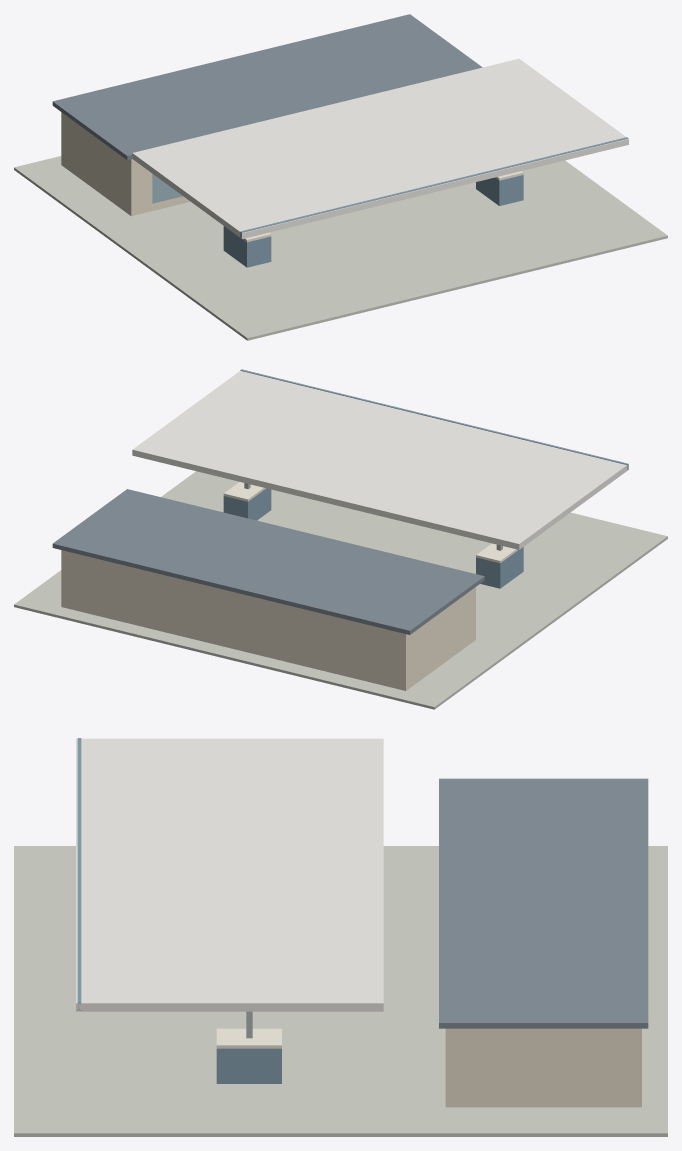
Rendered from shop-fuel-canopy.glb.
The picture shows the model from 3 angles, top to bottom: view 1: azimuth 30°, elevation 25°; view 2: azimuth 150°, elevation 25°; view 3: azimuth 270°, elevation 25°; orthographic projection. The views are drawn at different scales.
Visible parts, largest first — view 1: shop-fuel-canopy; view 2: shop-fuel-canopy; view 3: shop-fuel-canopy.
Boxes of the visible parts, x1,y1,x2,y2 form: shop-fuel-canopy: [14, 14, 667, 340]; shop-fuel-canopy: [14, 369, 667, 709]; shop-fuel-canopy: [14, 738, 667, 1136].
Size of the model in its own units: 26 by 5.18 by 25.
